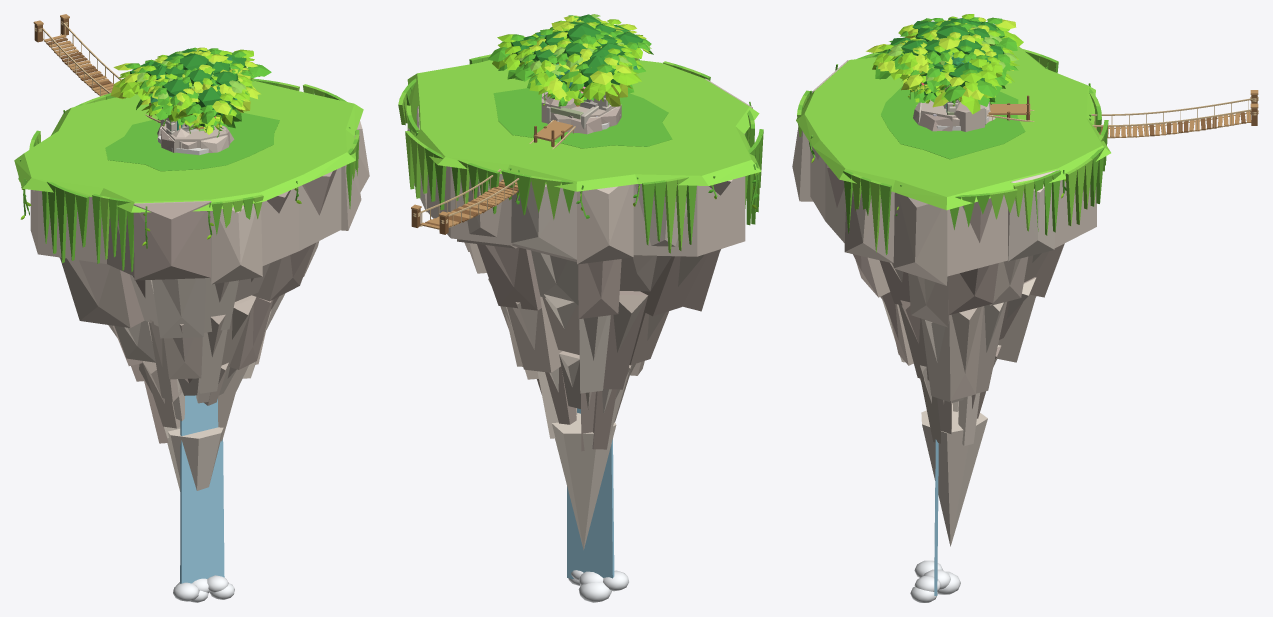
File: Floor1_Assets.fbx
3 views of the same model, side by side, from view 1: azimuth 30°, elevation 25°; view 2: azimuth 150°, elevation 25°; view 3: azimuth 270°, elevation 25° (orthographic). The views are drawn at different scales.
Visible parts, largest first — view 1: Large_Island.006, Waterfall_Large.009, Jungle_Canopy_Tree.585, Tree_Large_High.054, Medium_Island.012, Tree_Large_Low.1403, Bridge_Long.002, Crystal_Island.009, Rock_Large.809; view 2: Large_Island.006, Waterfall_Large.009, Jungle_Canopy_Tree.585, Tree_Large_High.054, Tree_Large_Low.1403, Medium_Island.012, Bridge_Long.002, Crystal_Island.009, Rock_Large.809, Fishing_Jetty.004, Mossy_Stairs.002; view 3: Large_Island.006, Jungle_Canopy_Tree.585, Tree_Large_Low.1403, Tree_Large_High.054, Bridge_Long.002, Medium_Island.012, Waterfall_Large.009, Crystal_Island.009, Rock_Large.809, Rock_Formation.421.
Part boxes in pixels (<box>): Large_Island.006: <box>14,78,369,491</box>; Waterfall_Large.009: <box>173,395,234,602</box>; Jungle_Canopy_Tree.585: <box>133,47,254,111</box>; Tree_Large_High.054: <box>115,48,258,132</box>; Medium_Island.012: <box>104,110,288,179</box>; Tree_Large_Low.1403: <box>110,49,271,128</box>; Bridge_Long.002: <box>33,14,160,122</box>; Crystal_Island.009: <box>107,109,280,176</box>; Rock_Large.809: <box>157,123,234,152</box>; Large_Island.006: <box>398,54,763,549</box>; Waterfall_Large.009: <box>567,408,628,602</box>; Jungle_Canopy_Tree.585: <box>519,14,653,77</box>; Tree_Large_High.054: <box>498,15,641,105</box>; Tree_Large_Low.1403: <box>488,20,645,106</box>; Medium_Island.012: <box>477,80,698,156</box>; Bridge_Long.002: <box>411,120,575,234</box>; Crystal_Island.009: <box>499,89,670,155</box>; Rock_Large.809: <box>548,104,621,134</box>; Fishing_Jetty.004: <box>533,120,572,146</box>; Mossy_Stairs.002: <box>546,106,598,128</box>; Large_Island.006: <box>792,46,1110,546</box>; Jungle_Canopy_Tree.585: <box>887,17,1018,106</box>; Tree_Large_Low.1403: <box>866,17,1023,114</box>; Tree_Large_High.054: <box>872,14,1018,106</box>; Bridge_Long.002: <box>987,90,1258,138</box>; Medium_Island.012: <box>862,76,1043,165</box>; Waterfall_Large.009: <box>910,439,960,602</box>; Crystal_Island.009: <box>864,84,1045,152</box>; Rock_Large.809: <box>913,99,995,131</box>; Rock_Formation.421: <box>946,100,984,131</box>.
Bounding box in the file's own units: 9545 × 14626 × 10812.
1 material, 1 textured.
